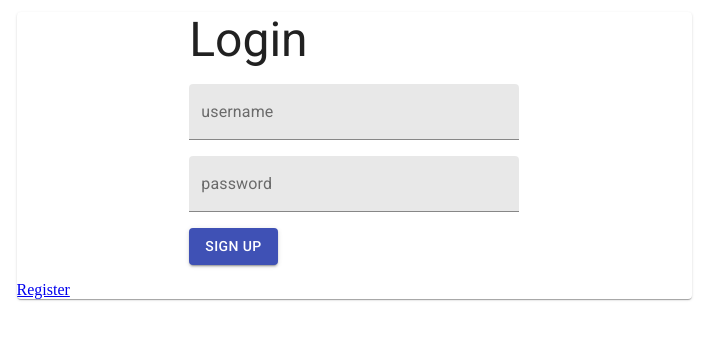
Scenario: Login › should show error message if error
What coordinates should you click on to do the following:
click the button "Sign Up"
I would click on:
 (233, 246)
Its box is [189,228,278,264].
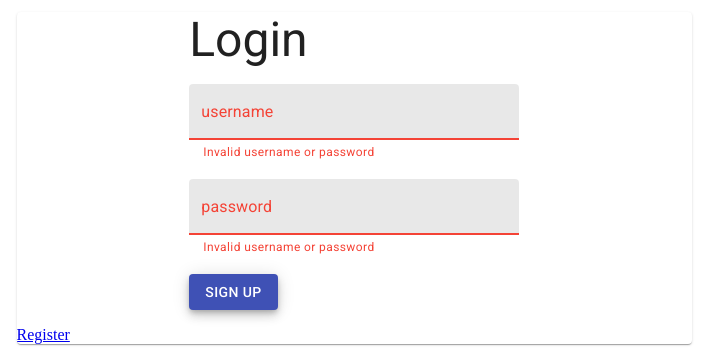
Result: the text "Invalid username or password" is shown 2 times at [203,145,375,159]; [203,240,375,254]
